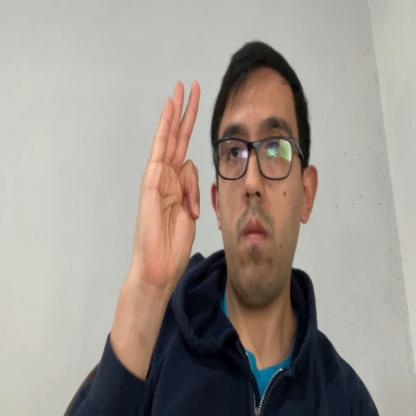F: (136, 76, 201, 284)
